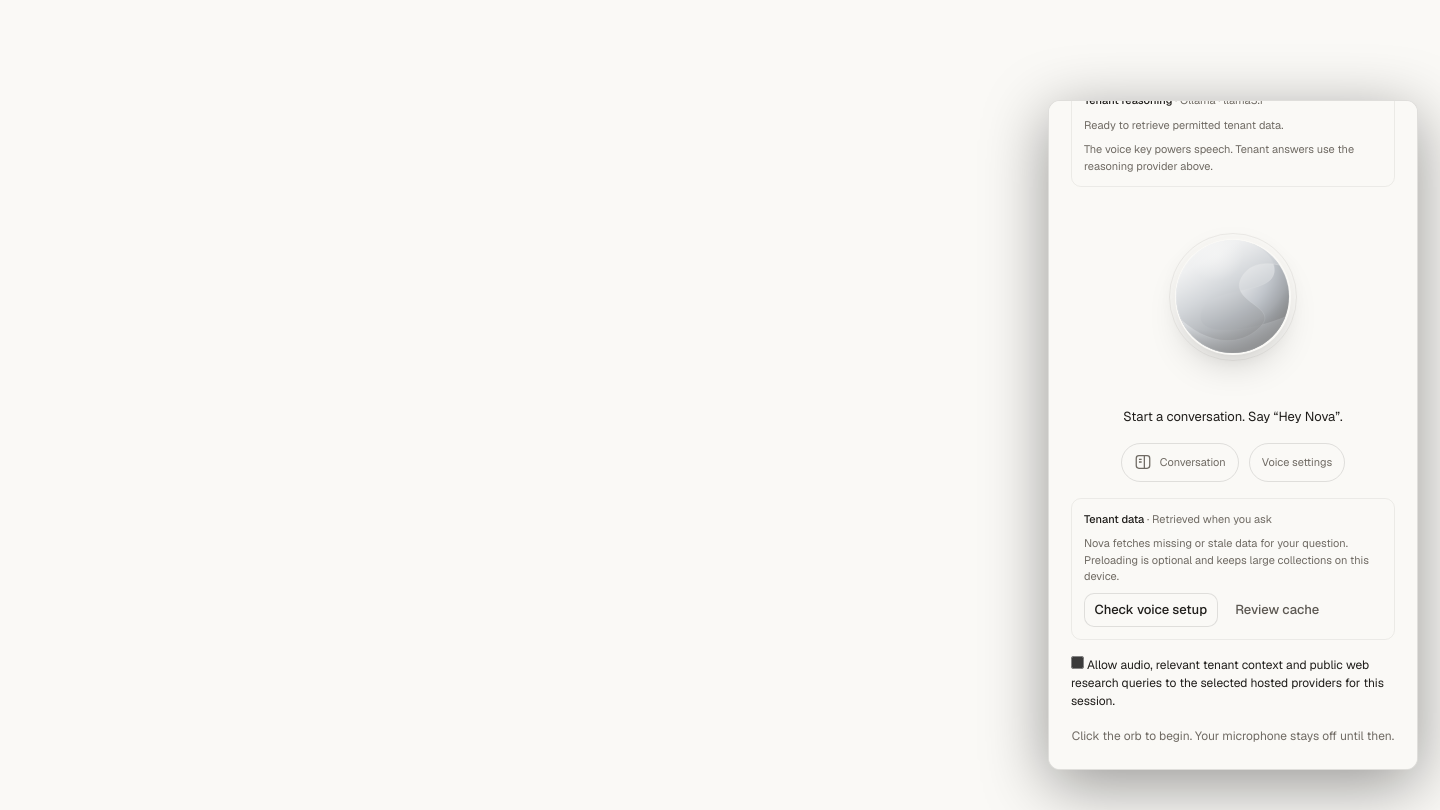
Test: keeps the microphone off when setup fails and explains the reasoning dependency
The width and height of the screenshot is (1440, 810).
(page scrolled)
Expected: the text "The voice key powers speech" is shown, [1084,142,1354,172]
Expected: the text "Preloading is optional" is shown, [1084,536,1369,583]
Click the checkbox.
click(1078, 662)  # box [1071,656,1084,668]
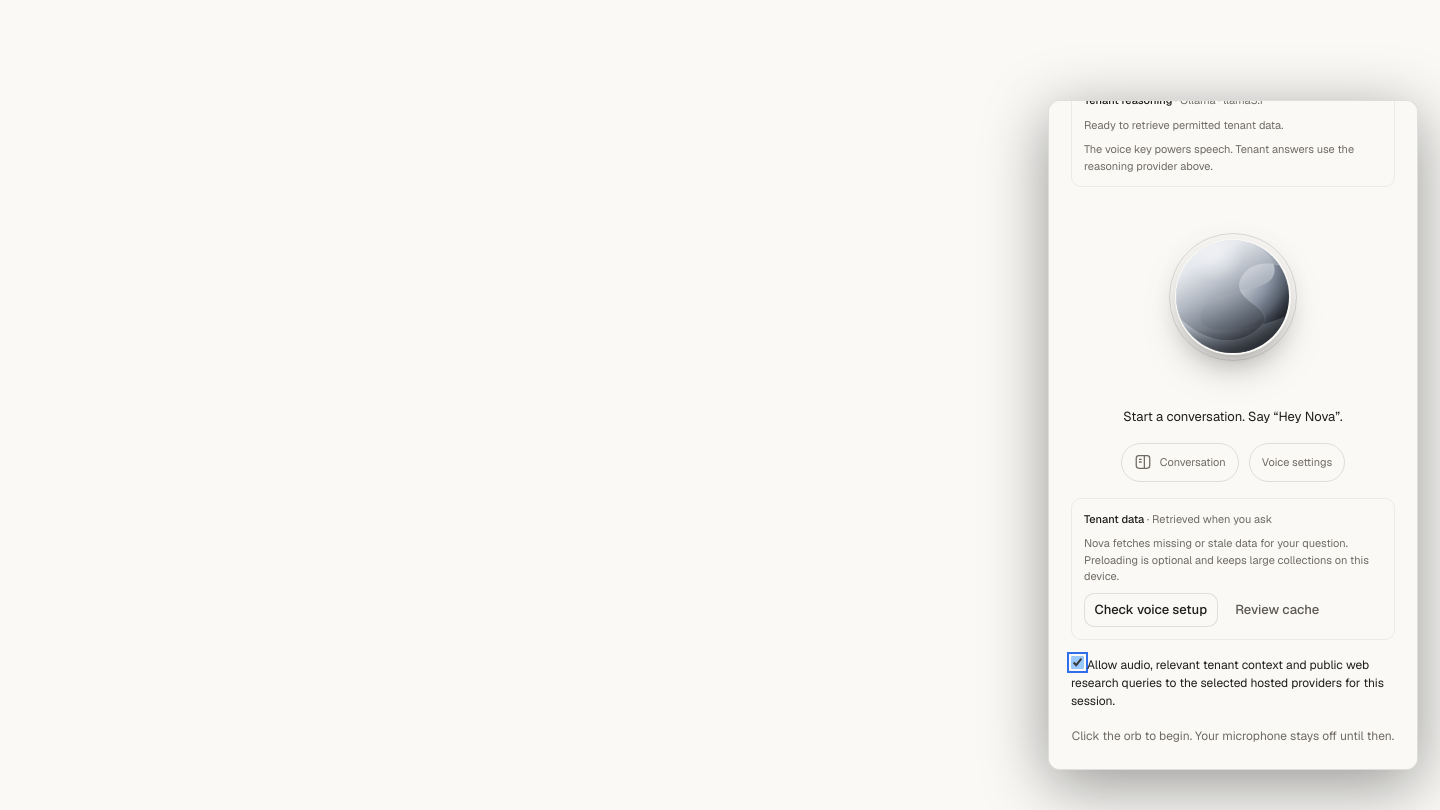
Click the button named "Start Nova".
click(1233, 297)  # box [1169,233,1297,361]
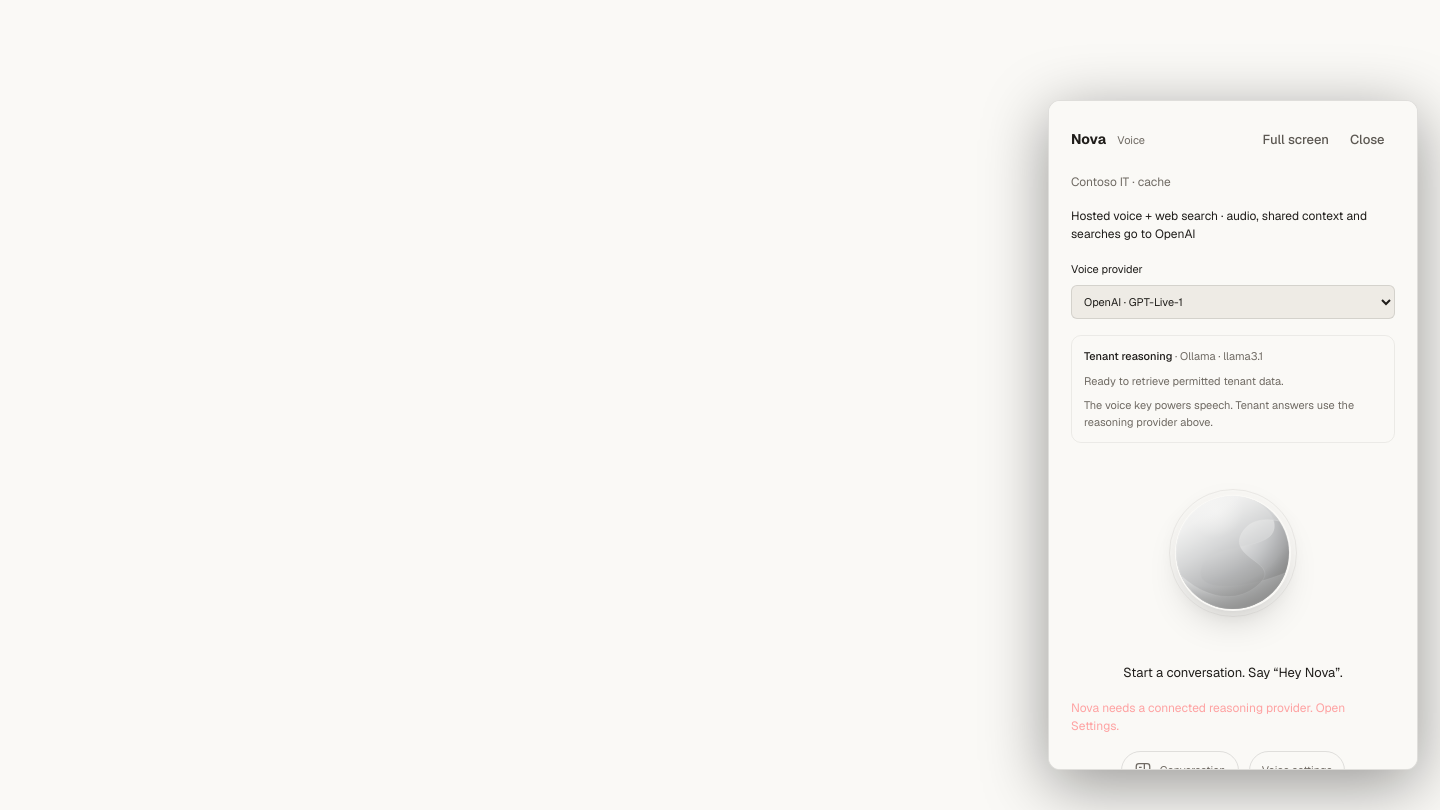
Expected: the message "Nova needs a connected reasoning provider. Open Settings." is shown, [1071,700,1345,734]
